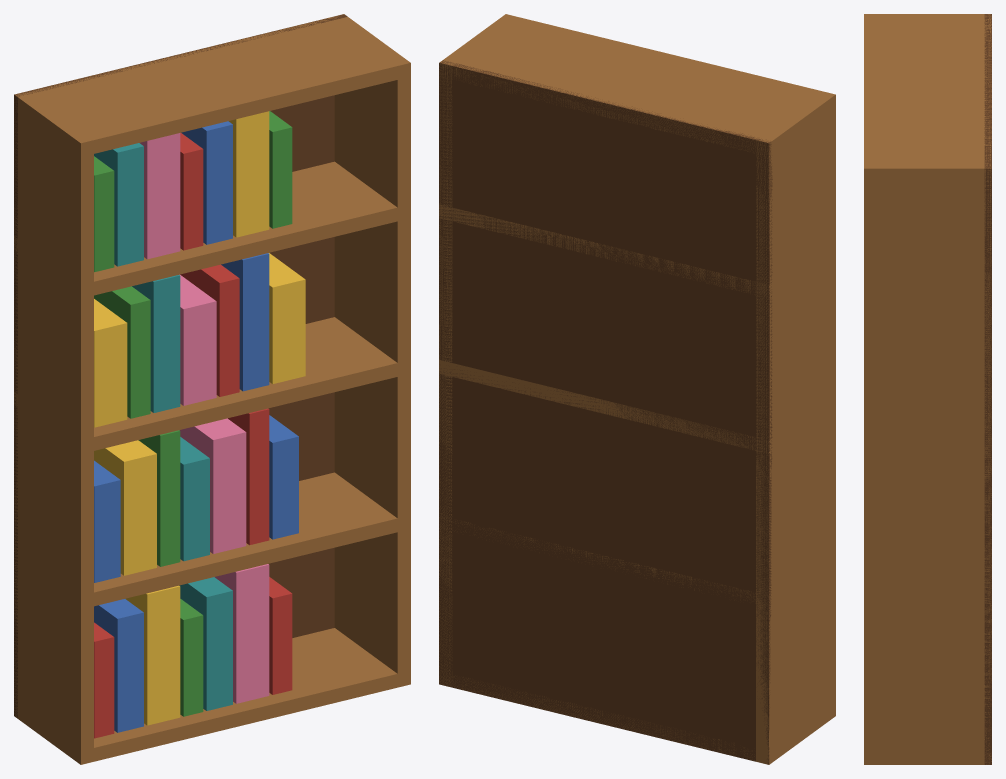
The model's file is bookshelf.glb.
3 views of the same model, side by side, from view 1: azimuth 30°, elevation 25°; view 2: azimuth 150°, elevation 25°; view 3: azimuth 270°, elevation 25° (orthographic). The views are drawn at different scales.
Visible parts, largest first — view 1: Side_left, Side_right, Shelf_4, Back, Shelf_3, Shelf_0, Shelf_2, Shelf_1, Book_1_4, Book_1_1, Book_0_2, Book_0_5 (+24 smaller); view 2: Back, Side_left, Shelf_4, Side_right, Shelf_2, Shelf_3, Shelf_0, Shelf_1; view 3: Side_right, Shelf_4, Back, Shelf_3, Shelf_2, Shelf_1, Shelf_0, Side_left.
Boxes of the visible parts, x1,y1,x2,y2 form: Side_left: (14, 92, 93, 764); Side_right: (334, 14, 410, 687); Shelf_4: (14, 15, 410, 156); Back: (14, 14, 347, 718); Shelf_3: (14, 161, 410, 298); Shelf_0: (14, 628, 410, 764); Shelf_2: (14, 317, 410, 453); Shelf_1: (18, 472, 410, 609); Book_1_4: (179, 418, 246, 553); Book_1_1: (94, 440, 156, 575); Book_0_2: (125, 585, 180, 725); Book_0_5: (214, 564, 269, 703); Back: (439, 60, 772, 764); Side_left: (756, 91, 835, 764); Shelf_4: (439, 14, 835, 156); Side_right: (439, 14, 510, 686); Shelf_2: (439, 360, 835, 453); Shelf_3: (439, 204, 835, 297); Shelf_0: (439, 671, 835, 764); Shelf_1: (439, 516, 835, 608); Side_right: (864, 164, 991, 764); Shelf_4: (864, 14, 991, 181); Back: (984, 14, 991, 764); Shelf_3: (864, 304, 991, 317); Shelf_2: (864, 453, 990, 466); Shelf_1: (864, 603, 991, 615); Shelf_0: (864, 760, 989, 764); Side_left: (864, 14, 990, 20).
Bounding box in the file's own units: 1 × 1.8 × 0.35.
